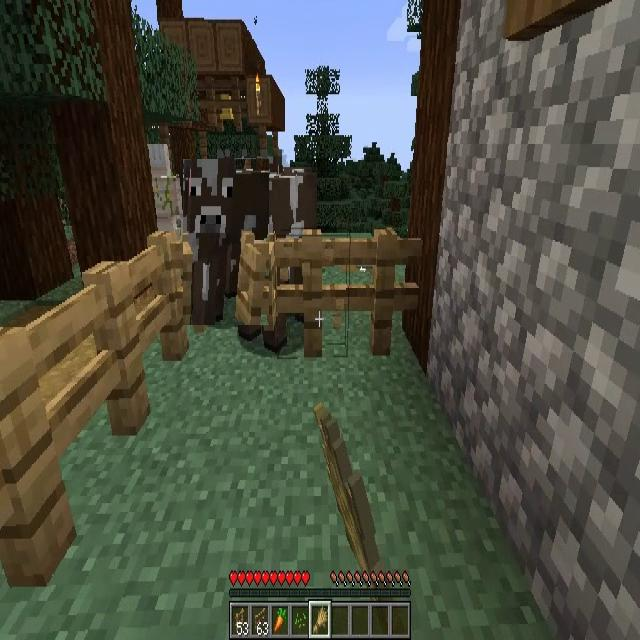cow: (220, 158, 318, 328), (183, 159, 270, 325)
